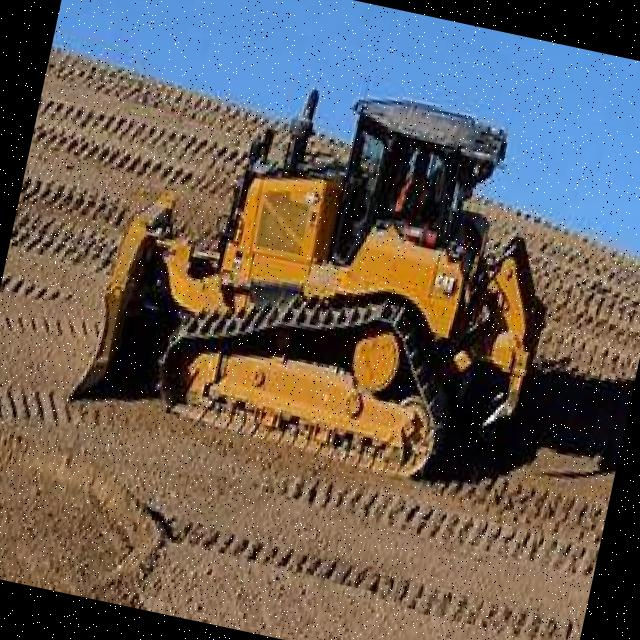Bulldozer: (60, 19, 604, 509)
